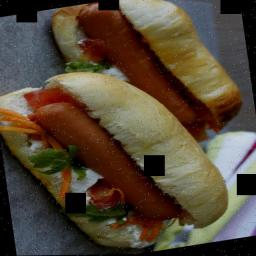hotdog: (0, 42, 237, 256), (46, 0, 246, 156)
